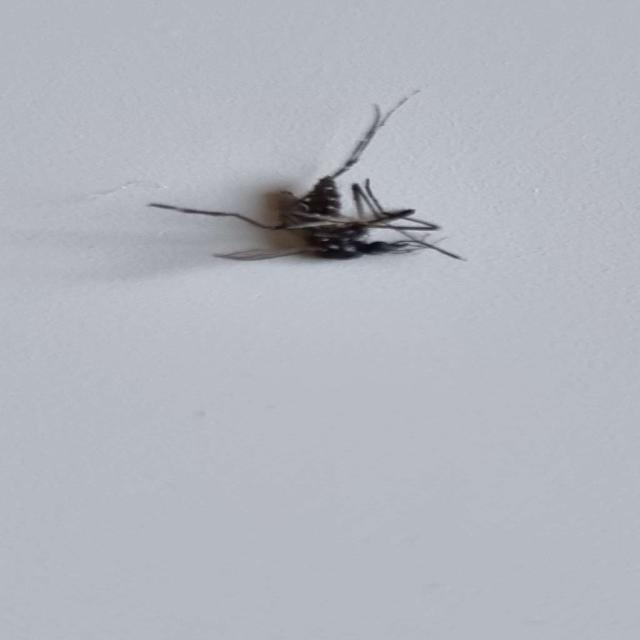albopictus: (135, 78, 462, 272)
